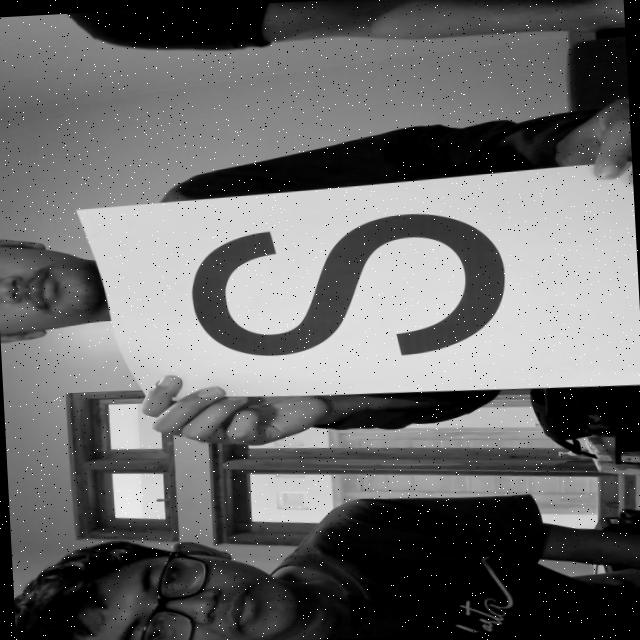s: (156, 180, 542, 387)
